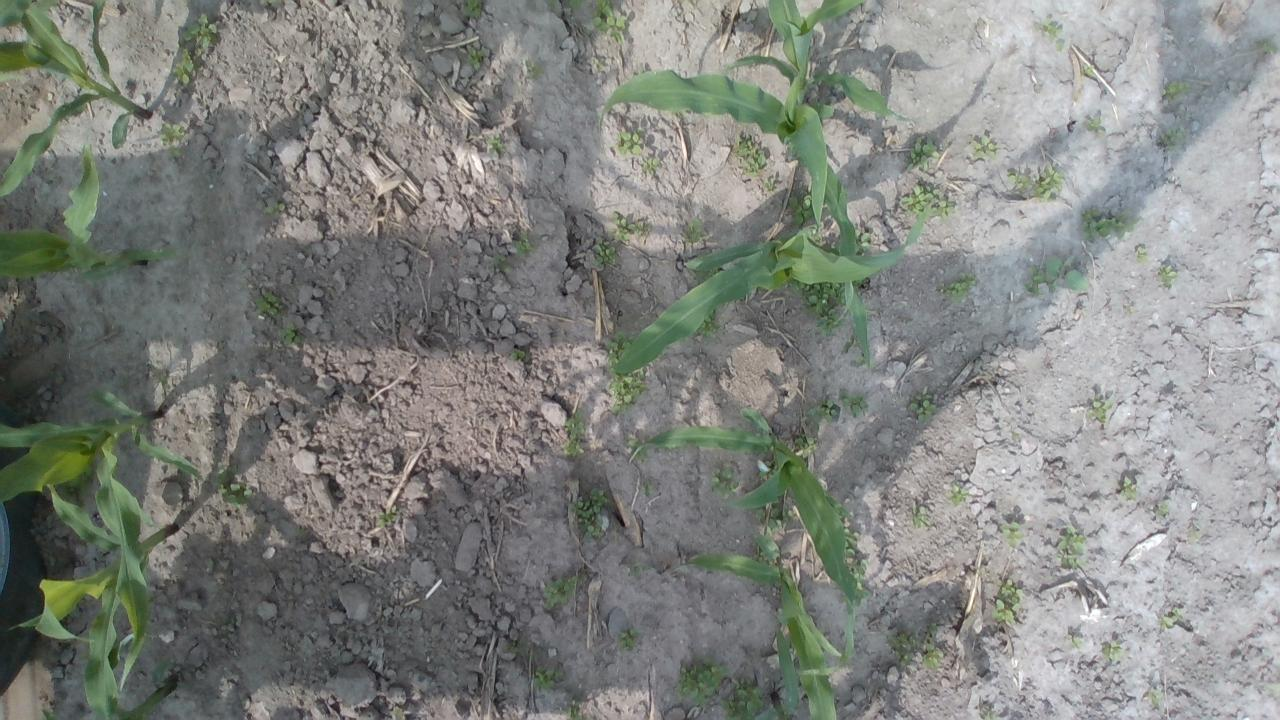Maize: (600, 57, 872, 373), (630, 404, 856, 678), (610, 207, 928, 375), (12, 481, 175, 694), (670, 530, 841, 720), (0, 0, 147, 196), (0, 388, 206, 522), (0, 133, 180, 279), (724, 0, 895, 120), (84, 557, 178, 720), (752, 626, 799, 720)
Weeds: (1024, 256, 1090, 298), (673, 656, 728, 704), (886, 624, 944, 668), (568, 488, 614, 538), (1005, 164, 1065, 202), (842, 527, 872, 602), (903, 184, 955, 226), (606, 368, 650, 417), (1080, 207, 1140, 242), (722, 676, 766, 720), (214, 463, 253, 509), (790, 281, 846, 313), (732, 131, 768, 180), (590, 0, 627, 44), (176, 14, 218, 50), (1056, 524, 1090, 568), (544, 572, 585, 608), (904, 134, 942, 172), (991, 579, 1022, 625), (909, 385, 945, 421), (610, 212, 652, 242), (172, 48, 202, 88), (754, 501, 794, 531), (786, 185, 814, 227), (606, 330, 638, 366), (560, 410, 585, 456), (710, 458, 738, 498), (806, 399, 839, 432), (939, 273, 976, 302), (252, 290, 286, 316), (840, 390, 869, 417), (971, 134, 998, 162), (998, 520, 1025, 548), (825, 494, 853, 521), (590, 241, 618, 268), (616, 130, 643, 156), (278, 319, 304, 345), (806, 95, 834, 119), (615, 626, 639, 654), (1036, 16, 1062, 41), (1086, 399, 1112, 424), (623, 436, 649, 461), (534, 664, 560, 689), (684, 216, 708, 243), (816, 314, 844, 337), (1160, 81, 1192, 101), (696, 310, 720, 336), (468, 44, 492, 70), (1158, 128, 1186, 150), (944, 483, 969, 507), (1159, 607, 1186, 629), (145, 661, 169, 685), (160, 124, 186, 146), (1156, 266, 1178, 290), (522, 56, 544, 80), (1116, 476, 1137, 501), (794, 435, 818, 456), (376, 508, 401, 528), (752, 459, 778, 478), (911, 502, 929, 529), (854, 226, 870, 256), (628, 560, 654, 578), (515, 233, 536, 255), (766, 703, 793, 720), (564, 704, 592, 720), (256, 200, 286, 214), (1100, 641, 1121, 660), (490, 255, 512, 273), (486, 134, 505, 154), (641, 157, 660, 176), (1256, 40, 1280, 55), (462, 0, 482, 17), (1063, 632, 1082, 648), (565, 0, 585, 14), (1086, 116, 1103, 131), (1150, 503, 1168, 517), (1147, 688, 1161, 706), (1262, 682, 1280, 696), (979, 708, 999, 720), (640, 481, 656, 496), (1136, 246, 1148, 264), (592, 57, 606, 72), (828, 241, 841, 256), (508, 349, 524, 361), (1188, 530, 1202, 543), (258, 0, 280, 8), (762, 177, 775, 190), (1084, 65, 1096, 78), (752, 552, 766, 562), (1054, 39, 1066, 50), (546, 0, 558, 9), (158, 375, 168, 385), (766, 560, 778, 568), (152, 248, 166, 253)
